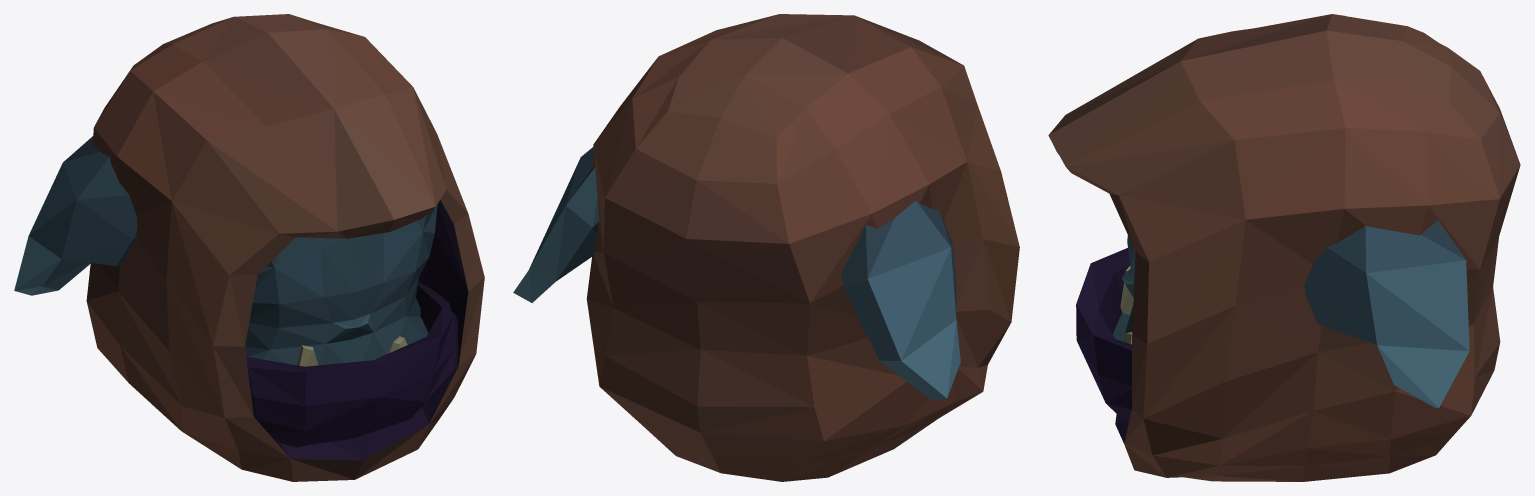
The model's file is Goblin_Blue_Head_Helm_4.fbx.
3 views of the same model, side by side, from view 1: azimuth 30°, elevation 25°; view 2: azimuth 150°, elevation 25°; view 3: azimuth 270°, elevation 25° (orthographic). The views are drawn at different scales.
Parts seen in each view (by area): view 1: Goblin_Blue_Head_Helm_4; view 2: Goblin_Blue_Head_Helm_4; view 3: Goblin_Blue_Head_Helm_4.
Part boxes in pixels (x1,y1,x2,y2): Goblin_Blue_Head_Helm_4: [14, 14, 484, 481]; Goblin_Blue_Head_Helm_4: [513, 14, 1019, 481]; Goblin_Blue_Head_Helm_4: [1048, 14, 1520, 481].
Size of the model in its own units: 1.39 by 1.3 by 1.29.
